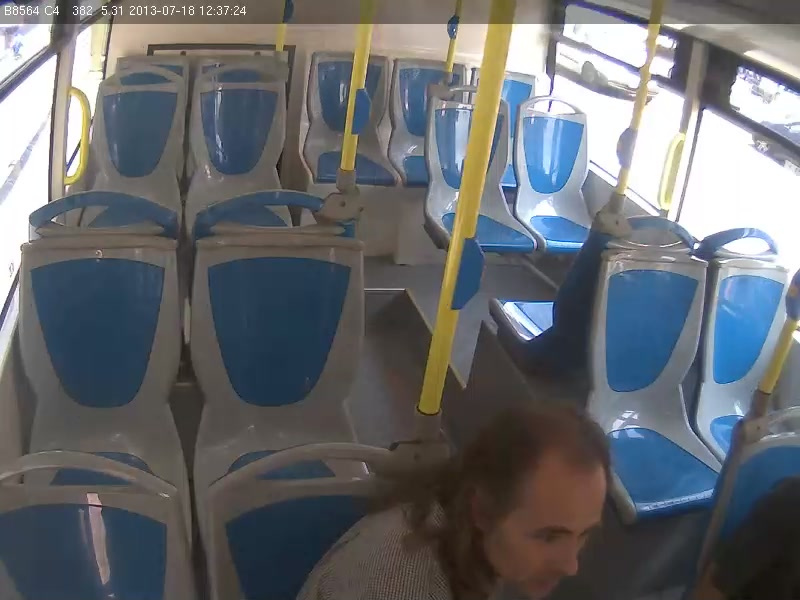Head: (461, 403, 615, 597)
